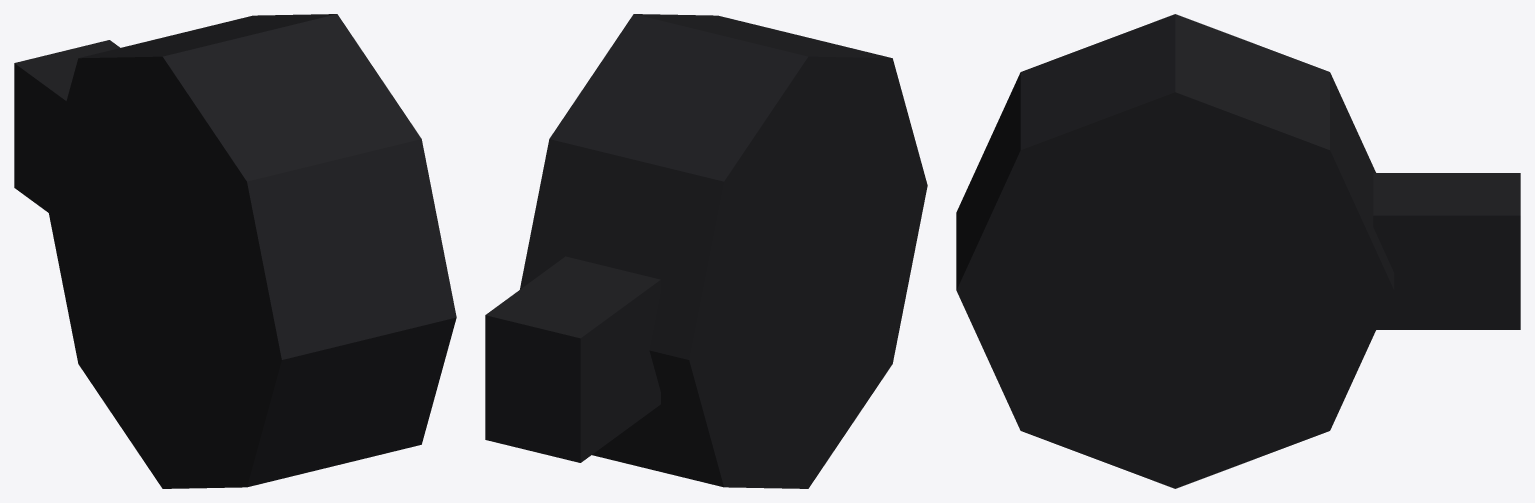
The model's file is Saiga12_Drum20.fbx.
The picture shows the model from 3 angles, left to right: view 1: azimuth 30°, elevation 25°; view 2: azimuth 150°, elevation 25°; view 3: azimuth 270°, elevation 25°; orthographic projection. The views are drawn at different scales.
Parts seen in each view (by area): view 1: prims; view 2: prims; view 3: prims.
Part boxes in pixels (box(x1,y1,x2,y2)): prims: box(14, 14, 456, 488); prims: box(485, 14, 927, 488); prims: box(956, 14, 1520, 488).
Size of the model in its own units: 0.0264 by 0.0624 by 0.0804.
